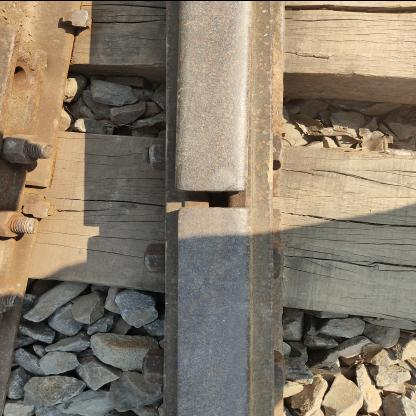Defective 3: (0, 31, 73, 328)
